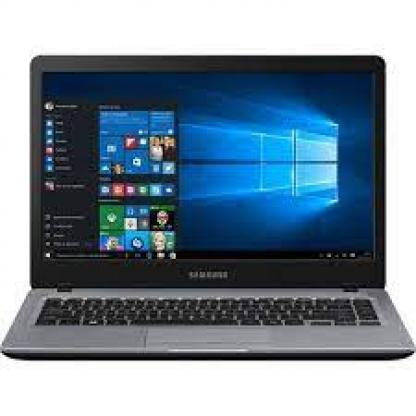NOTEBOOK: (19, 49, 416, 388)
